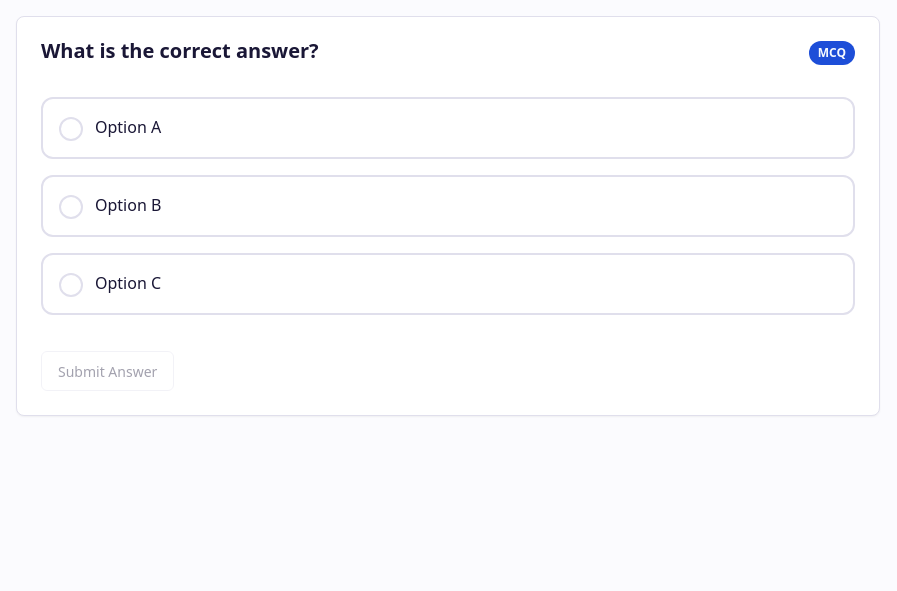
Test case: Question Component › shows incorrect feedback when submitting wrong answer
The width and height of the screenshot is (897, 591).
Click the text "Option B" at (128, 205), box [95,194,161,216]
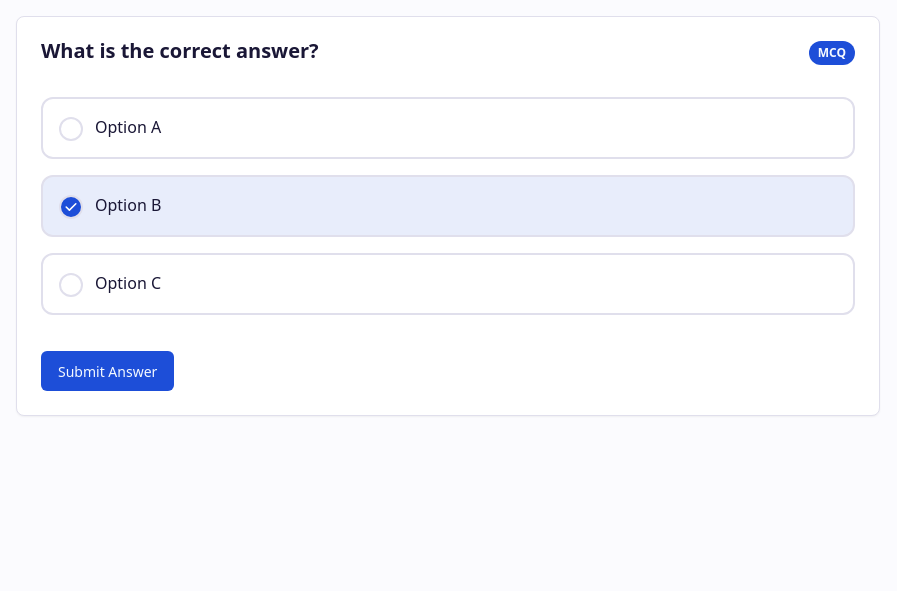
Click the button "Submit Answer" at (108, 371), box [41,351,174,391]
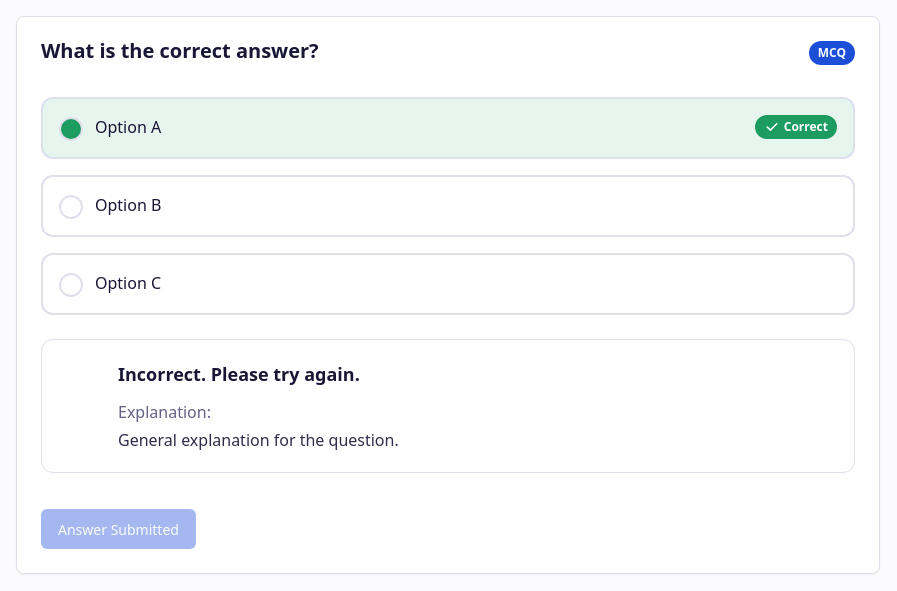
expect the heading "Incorrect. Please try again." is shown: met, box [118,362,360,386]
expect the text "General explanation for the question." is shown: met, box [118,429,399,451]
